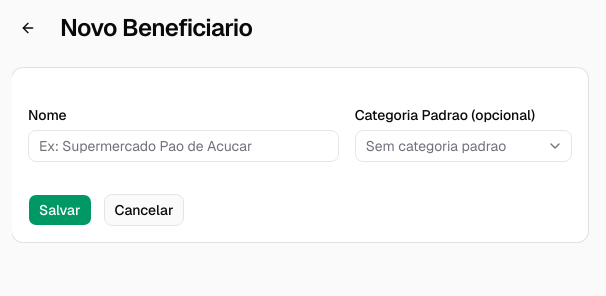
Scenario: NovoPayeePage › exibe erro de API quando criar falha
This screenshot has width=606, height=296.
Type "Falha" into the field labelled "Nome" at (183, 146), box [28,130,339,162]
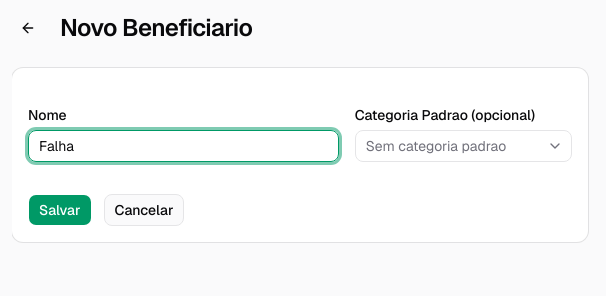
Click the button "Salvar" at (60, 210), box [28,194,92,226]
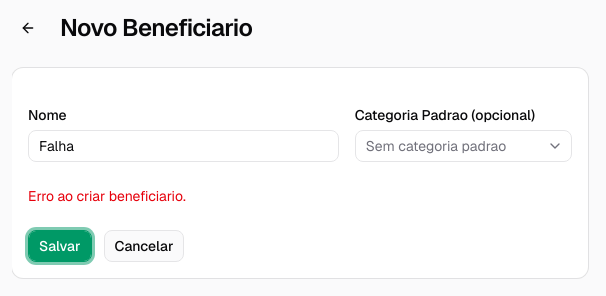
Check: the text "Erro ao criar beneficiario." is shown, box [28,187,186,205]
